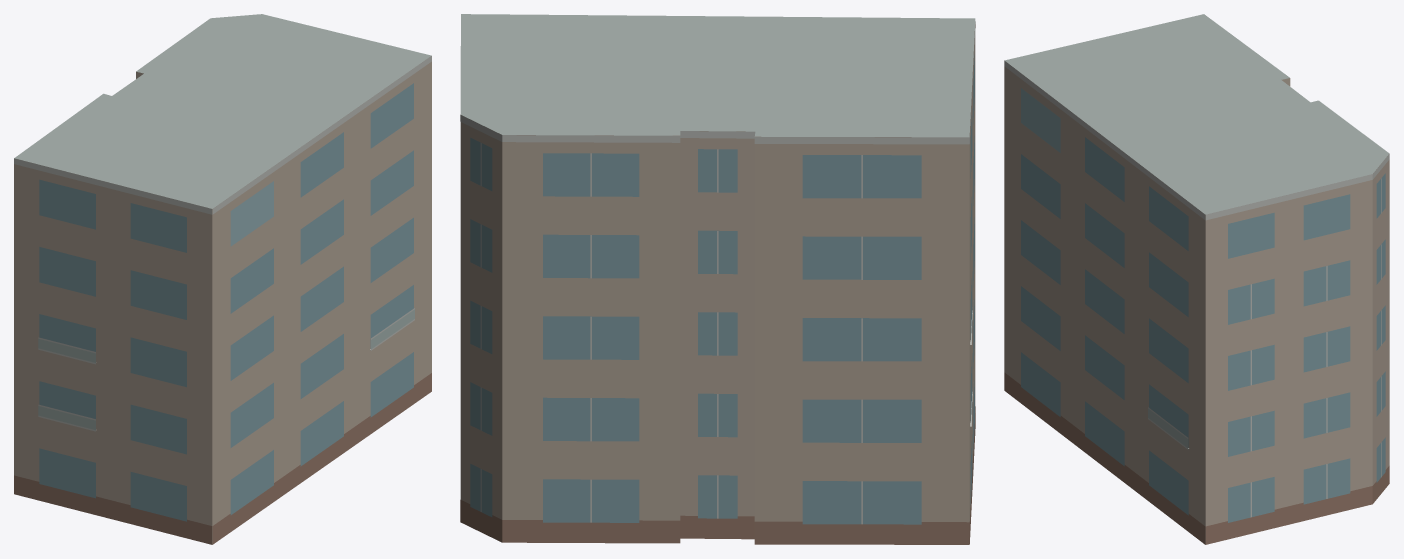
The model's file is survey-upis-32961754.glb.
The picture shows the model from 3 angles, left to right: view 1: azimuth 30°, elevation 25°; view 2: azimuth 150°, elevation 25°; view 3: azimuth 270°, elevation 25°; orthographic projection. The views are drawn at different scales.
Parts seen in each view (by area): view 1: survey-upis-32961754.tmp; view 2: survey-upis-32961754.tmp; view 3: survey-upis-32961754.tmp.
Part boxes in pixels (x1,y1,x2,y2): survey-upis-32961754.tmp: [14, 14, 431, 544]; survey-upis-32961754.tmp: [460, 14, 975, 544]; survey-upis-32961754.tmp: [1004, 14, 1389, 544].
Size of the model in its own units: 18.22 by 13.97 by 14.78.
